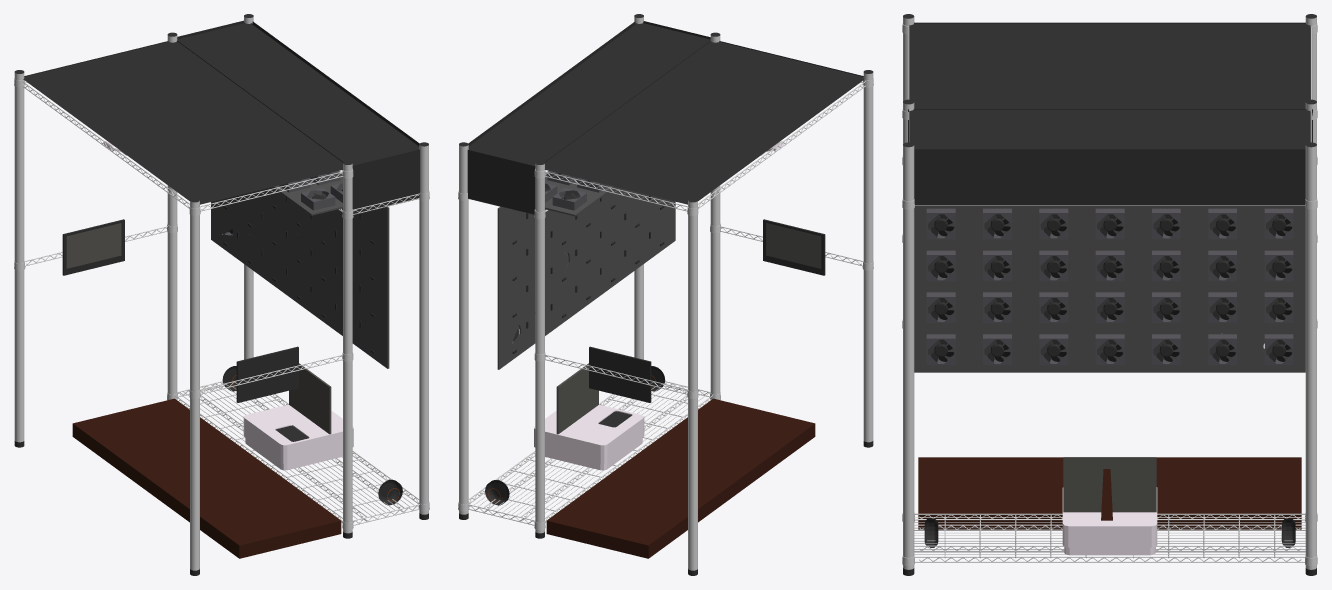
Rendered from device_view.fbx.
3 views of the same model, side by side, from view 1: azimuth 30°, elevation 25°; view 2: azimuth 150°, elevation 25°; view 3: azimuth 270°, elevation 25° (orthographic). The views are drawn at different scales.
Visible parts, largest first — view 1: 屋根中央・手前, 踏み台, メタルラック, 正面板, 屋根中央・奥, プロジェクタ, 下部棚板, 屋根右・奥, モバイルモニター左, モバイルモニター右, フレーム, 鏡 (+5 smaller); view 2: 屋根中央・手前, 踏み台, メタルラック, 正面板, 屋根中央・奥, プロジェクタ, 下部棚板, 屋根左・奥, モバイルモニター右, モバイルモニター左, フレーム, 鏡 (+5 smaller); view 3: 正面板, 屋根中央・手前, 屋根・後部, 踏み台, 屋根中央・奥, 正面ファン, メタルラック, 下部棚板, 鏡, プロジェクタ, 上部棚板, フレーム.
Boxes of the visible parts, <box> form: 屋根中央・手前: <box>23,40,343,204</box>; 踏み台: <box>72,398,341,558</box>; メタルラック: <box>14,14,428,575</box>; 正面板: <box>211,174,389,368</box>; 屋根中央・奥: <box>177,22,419,165</box>; プロジェクタ: <box>243,404,353,470</box>; 下部棚板: <box>167,381,429,529</box>; 屋根右・奥: <box>352,149,419,213</box>; モバイルモニター左: <box>62,219,124,275</box>; モバイルモニター右: <box>236,346,298,402</box>; フレーム: <box>14,40,353,215</box>; 鏡: <box>289,363,331,434</box>; 屋根中央・手前: <box>544,40,864,204</box>; 踏み台: <box>546,398,815,558</box>; メタルラック: <box>459,14,873,575</box>; 正面板: <box>497,174,675,369</box>; 屋根中央・奥: <box>468,22,710,165</box>; プロジェクタ: <box>534,404,644,470</box>; 下部棚板: <box>458,381,720,529</box>; 屋根左・奥: <box>467,150,535,214</box>; モバイルモニター右: <box>763,219,825,275</box>; モバイルモニター左: <box>589,346,651,402</box>; フレーム: <box>534,40,873,215</box>; 鏡: <box>556,363,598,434</box>; 正面板: <box>914,206,1305,372</box>; 屋根中央・手前: <box>909,22,1310,108</box>; 屋根・後部: <box>914,149,1305,205</box>; 踏み台: <box>918,457,1301,529</box>; 屋根中央・奥: <box>909,109,1310,149</box>; 正面ファン: <box>926,208,1293,364</box>; メタルラック: <box>903,14,1316,575</box>; 下部棚板: <box>902,512,1317,566</box>; 鏡: <box>1063,457,1156,520</box>; プロジェクタ: <box>1062,487,1157,555</box>; 上部棚板: <box>902,155,1317,209</box>; フレーム: <box>902,23,1317,119</box>.
Bounding box in the file's own units: 141 × 210 × 184.
